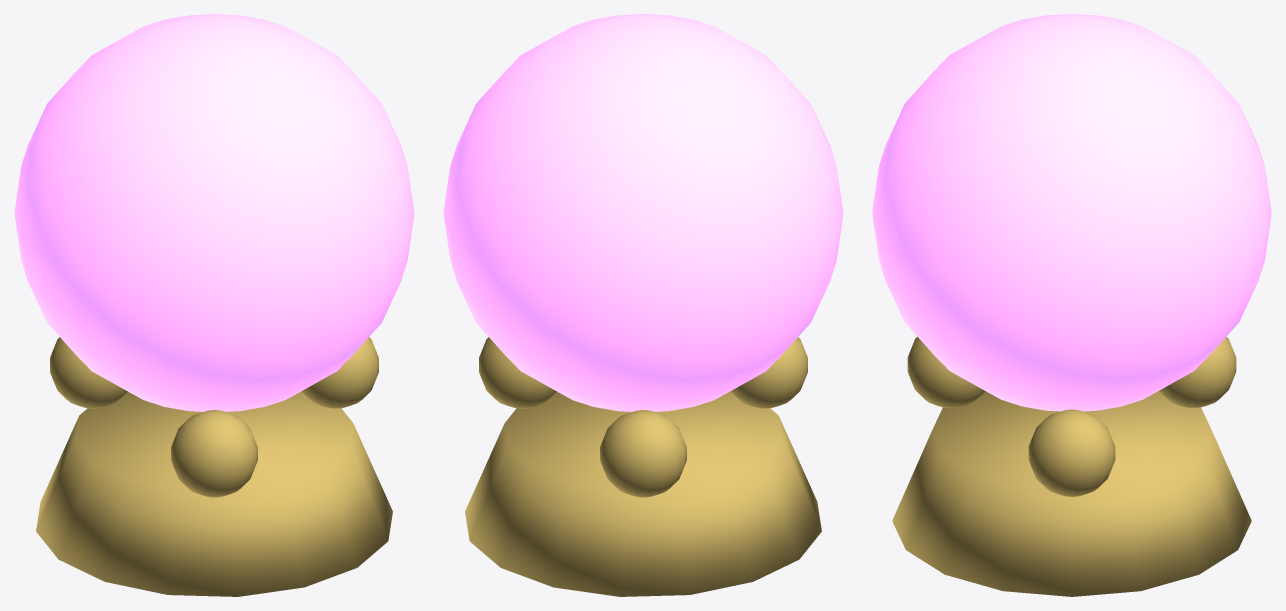
The model's file is crystal_ball.glb.
3 renders of one model, left to right at view 1: azimuth 30°, elevation 25°; view 2: azimuth 150°, elevation 25°; view 3: azimuth 270°, elevation 25°, orthographic.
Visible parts, largest first — view 1: GD_crystal_ball; view 2: GD_crystal_ball; view 3: GD_crystal_ball.
Boxes of the visible parts, x1,y1,x2,y2 form: GD_crystal_ball: (14,14,414,596); GD_crystal_ball: (443,14,843,596); GD_crystal_ball: (872,14,1271,596).
Size of the model in its own units: 0.2 by 0.27 by 0.2.
